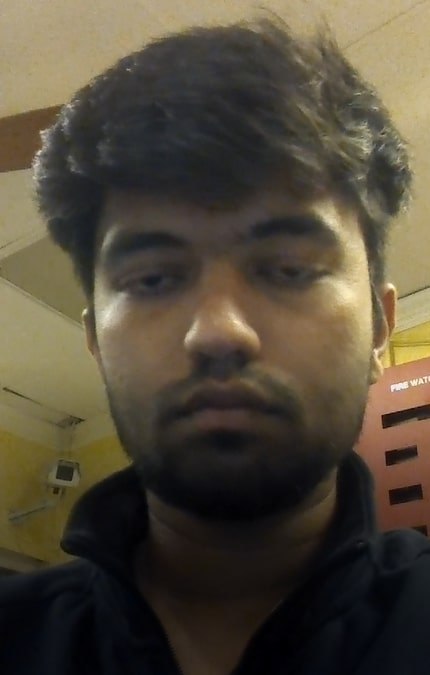Half Asleep: (93, 227, 342, 308)
